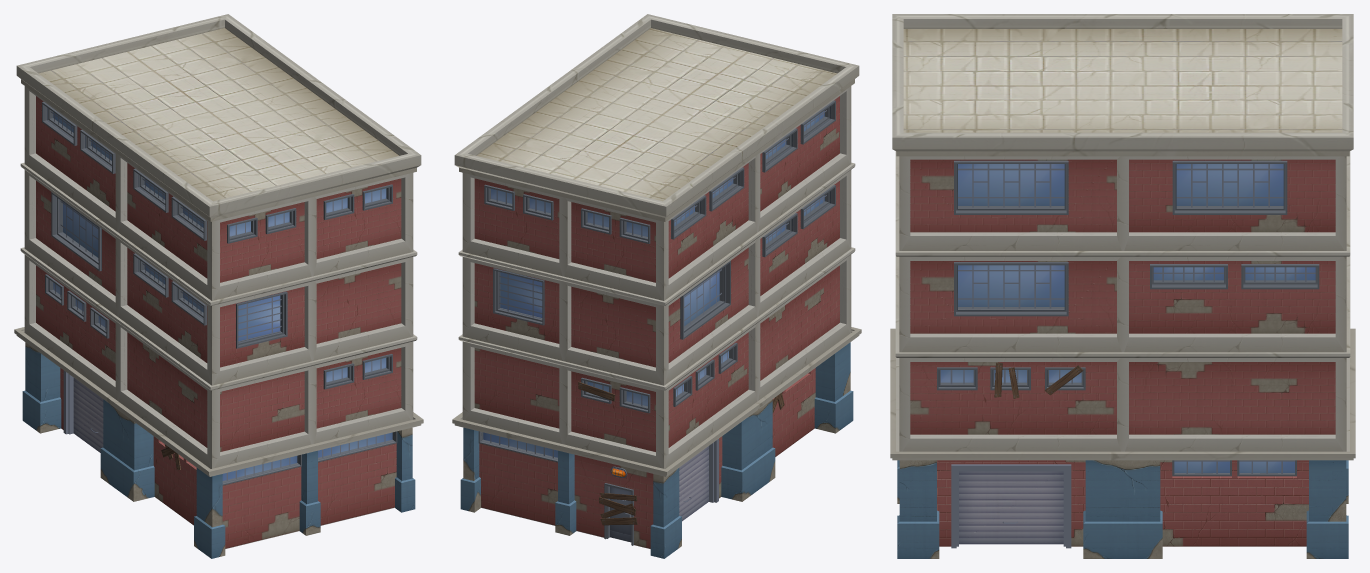
File: Building_03_4_LOD1.fbx
3 renders of one model, left to right at view 1: azimuth 30°, elevation 25°; view 2: azimuth 150°, elevation 25°; view 3: azimuth 270°, elevation 25°, orthographic. The views are drawn at different scales.
Parts seen in each view (by area): view 1: polySurface4858; view 2: polySurface4858; view 3: polySurface4858.
Part boxes in pixels (x1=…): polySurface4858: x1=14, y1=14, x2=423, y2=558; polySurface4858: x1=452, y1=14, x2=861, y2=558; polySurface4858: x1=890, y1=14, x2=1355, y2=558.
Size of the model in its own units: 796 by 1256 by 1251.
